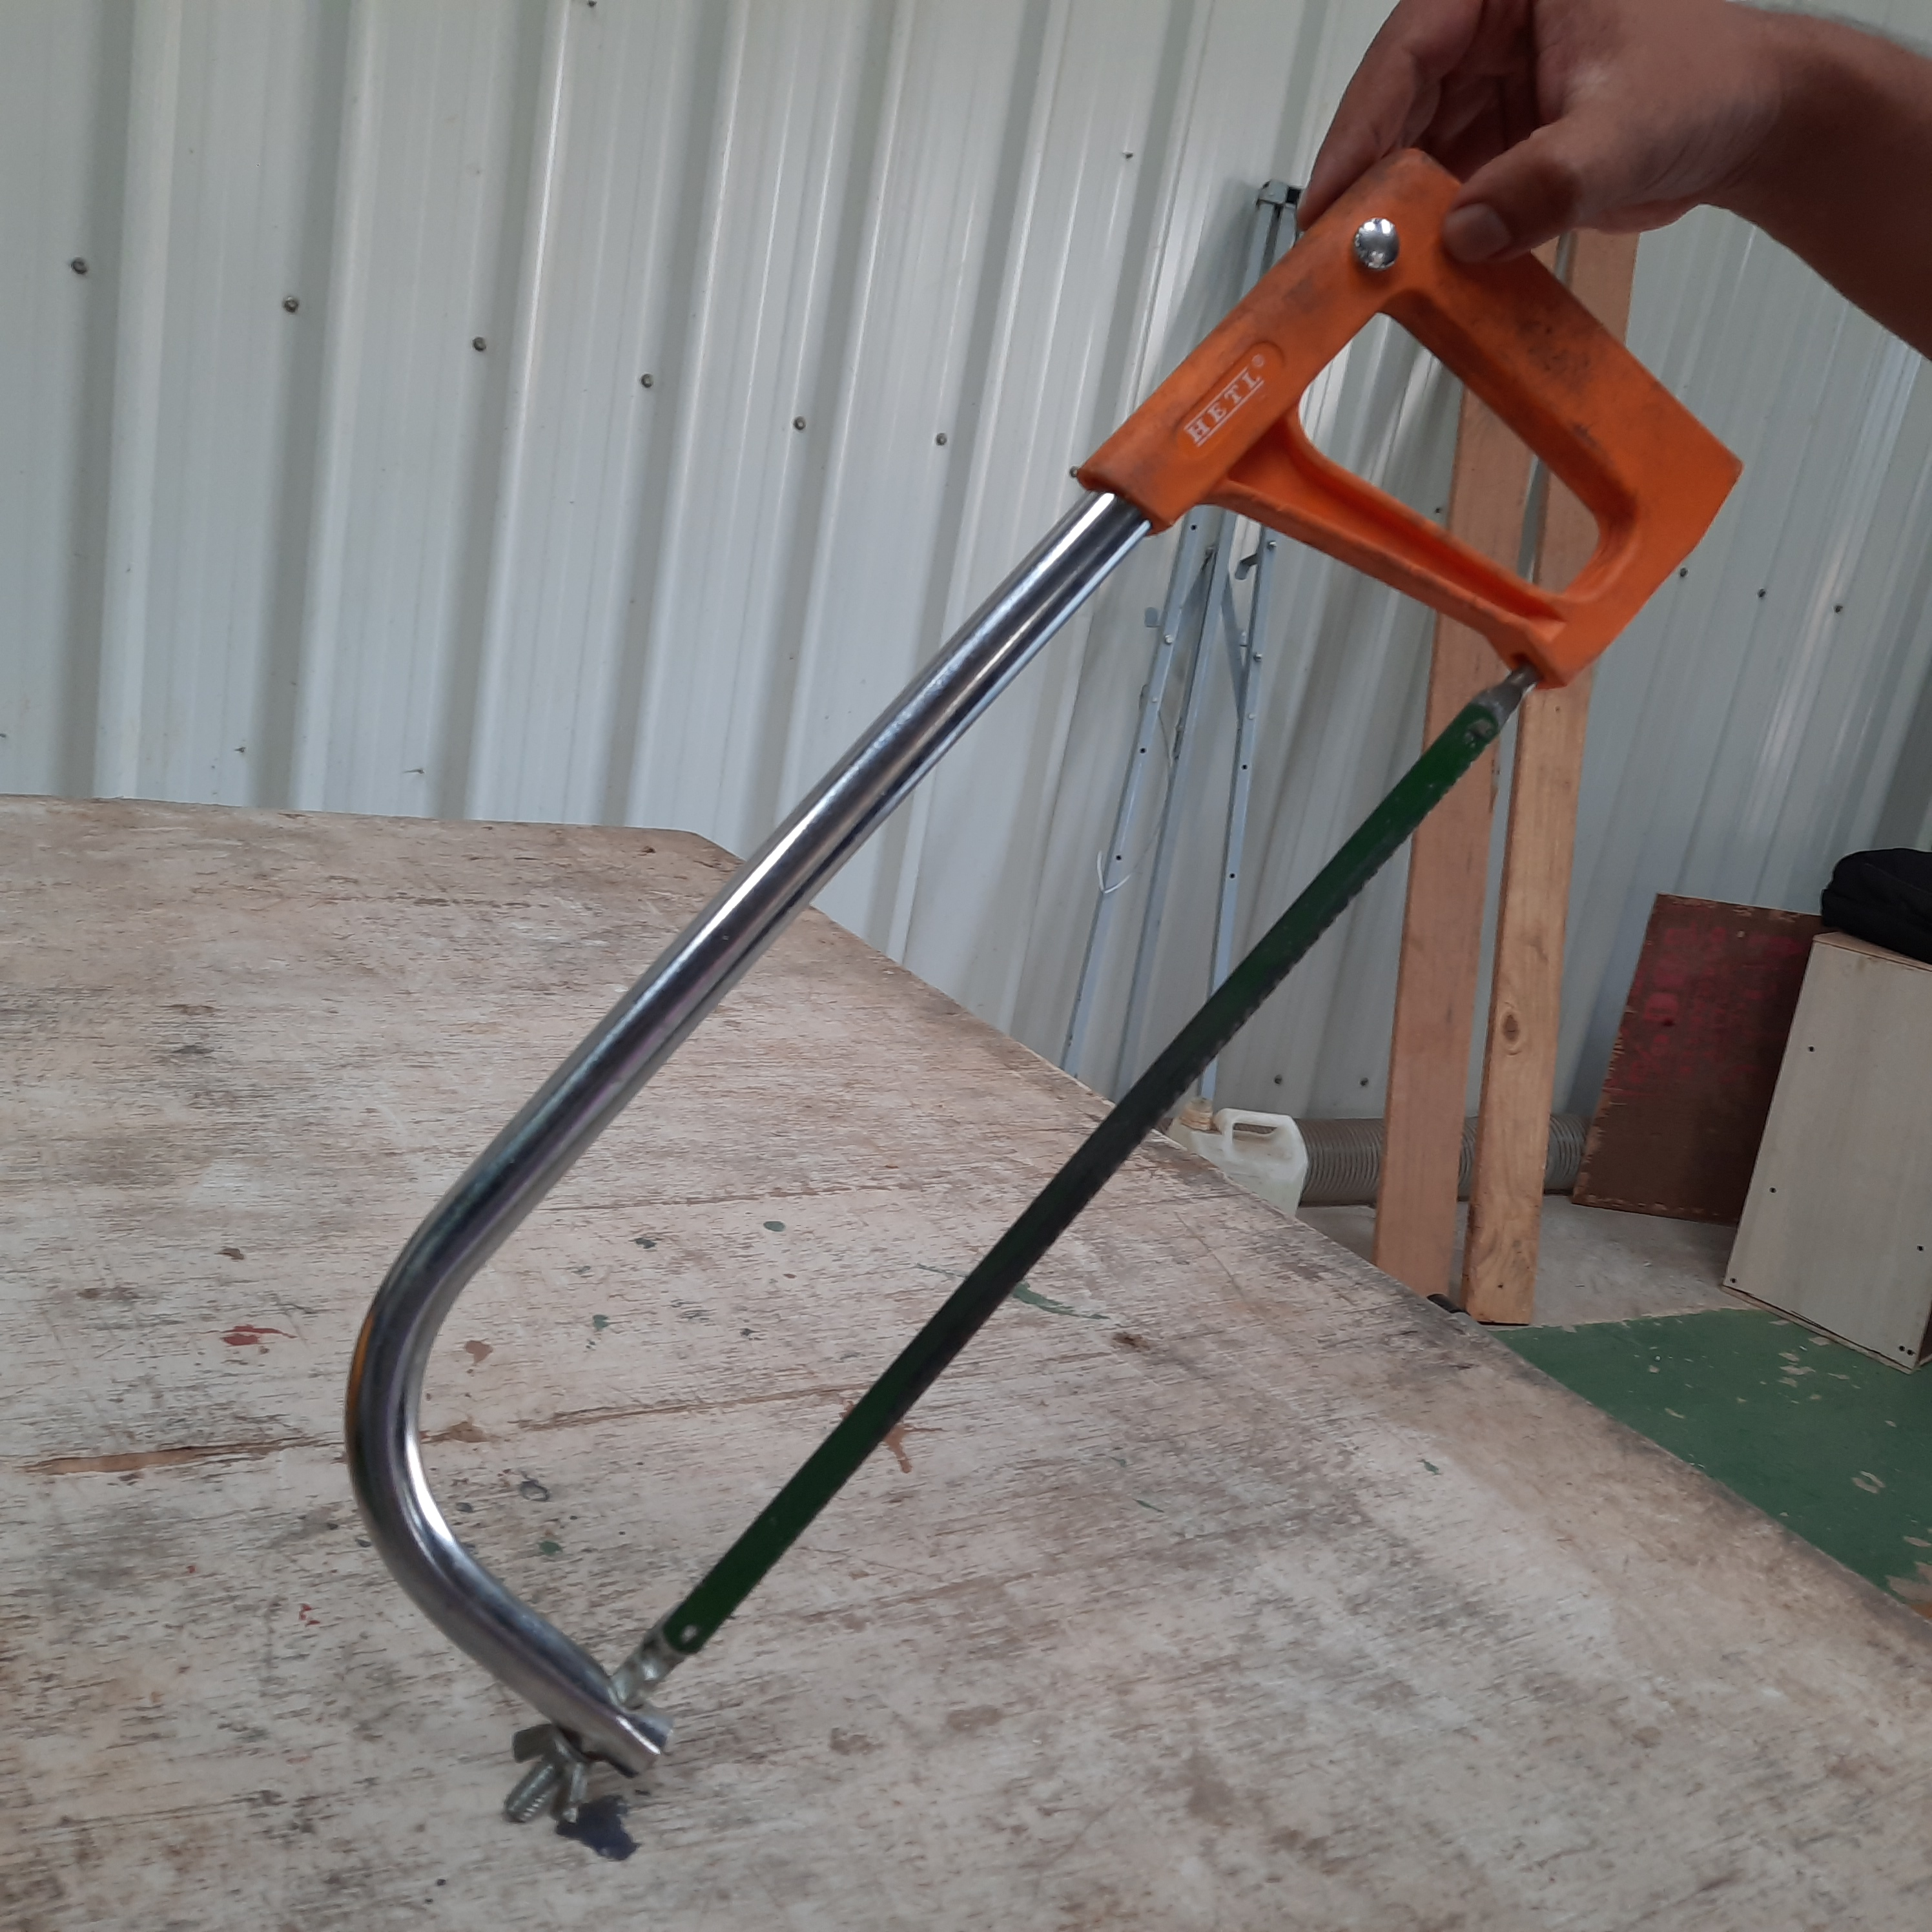Hexaframe: (304, 136, 1769, 1859)
